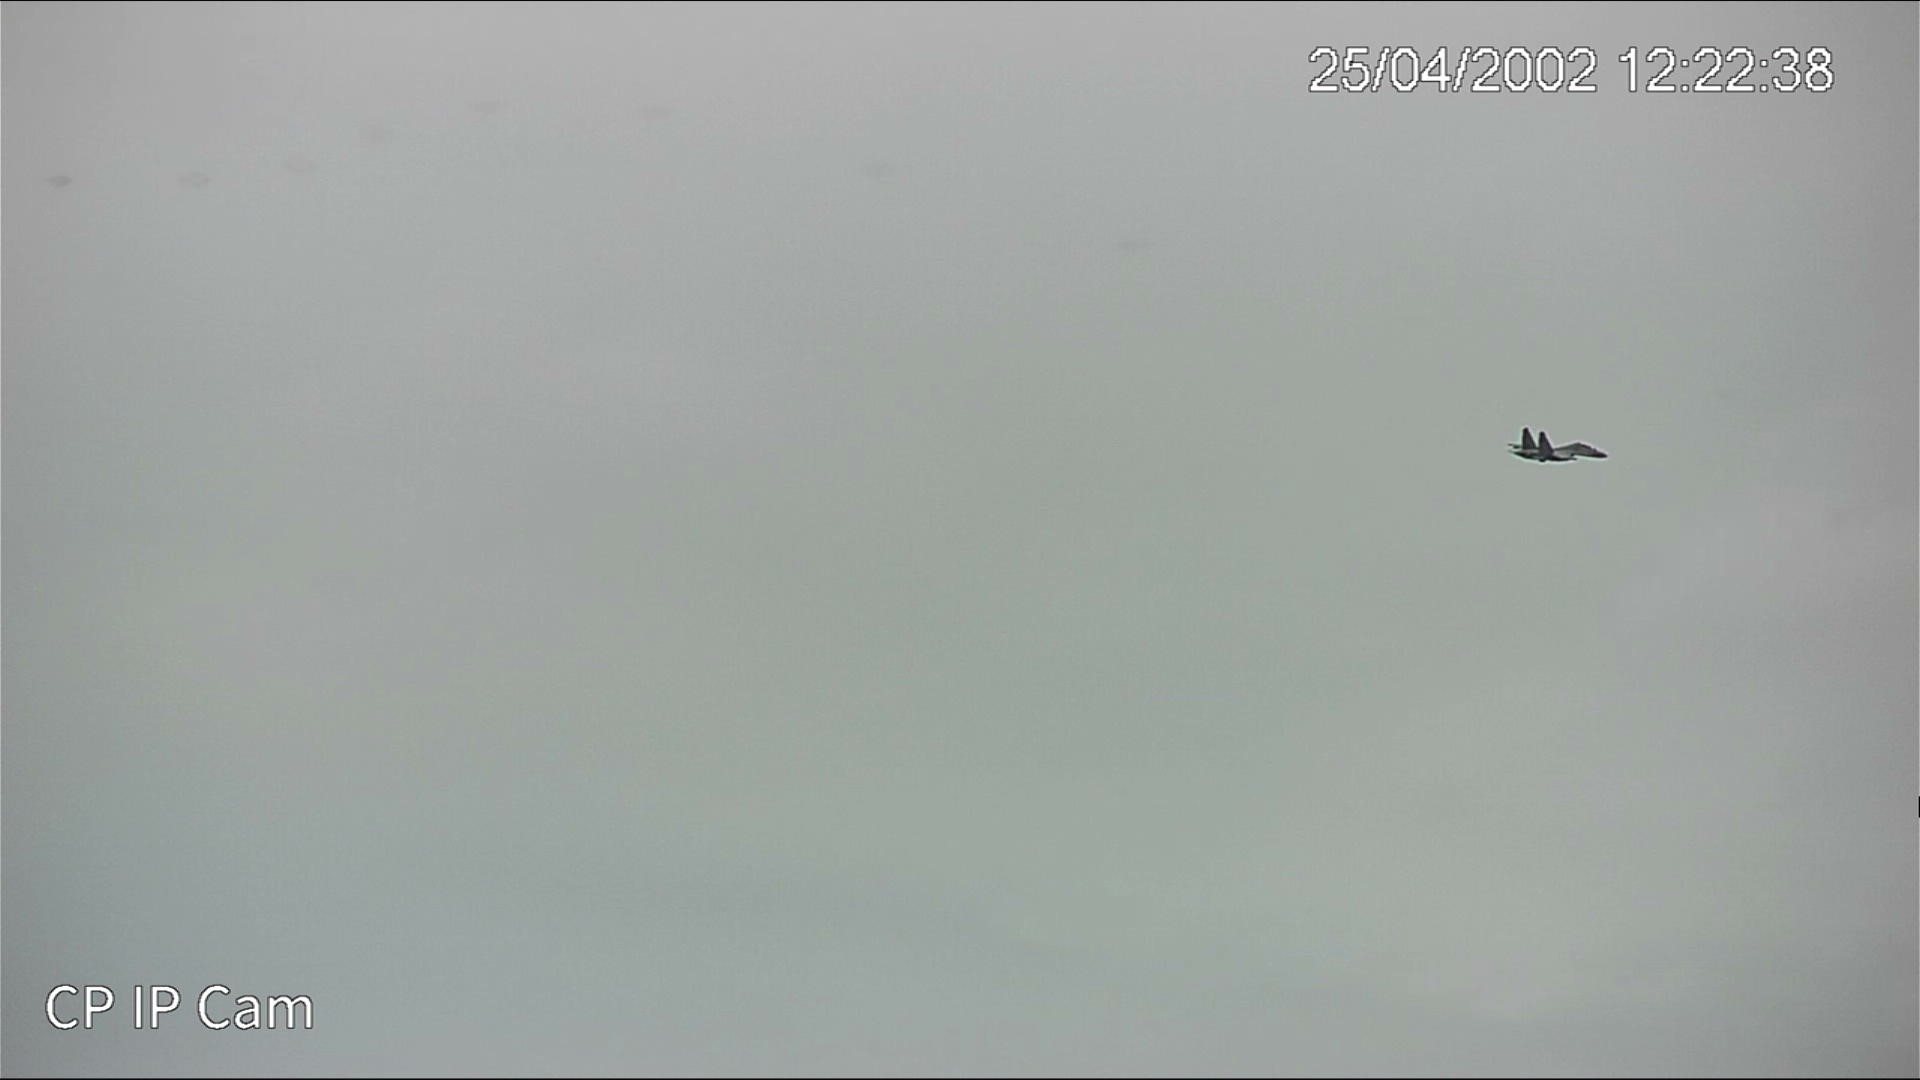SU_30: (1505, 425, 1611, 469)
